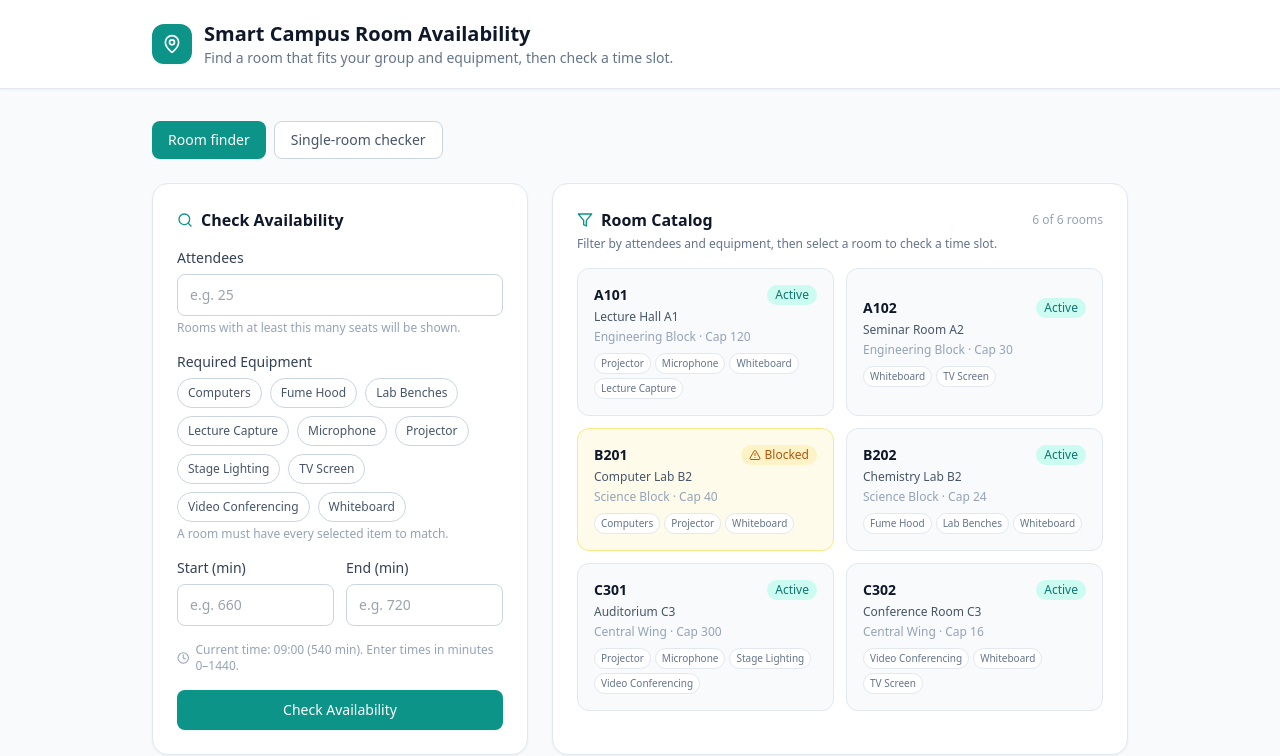
Test: App room catalog and availability UI › D6: A101, 660–720 produces Available (gap between existing bookings)
Step 1. Click the button that starts with "A101" → (706, 342), box [577, 268, 834, 416]
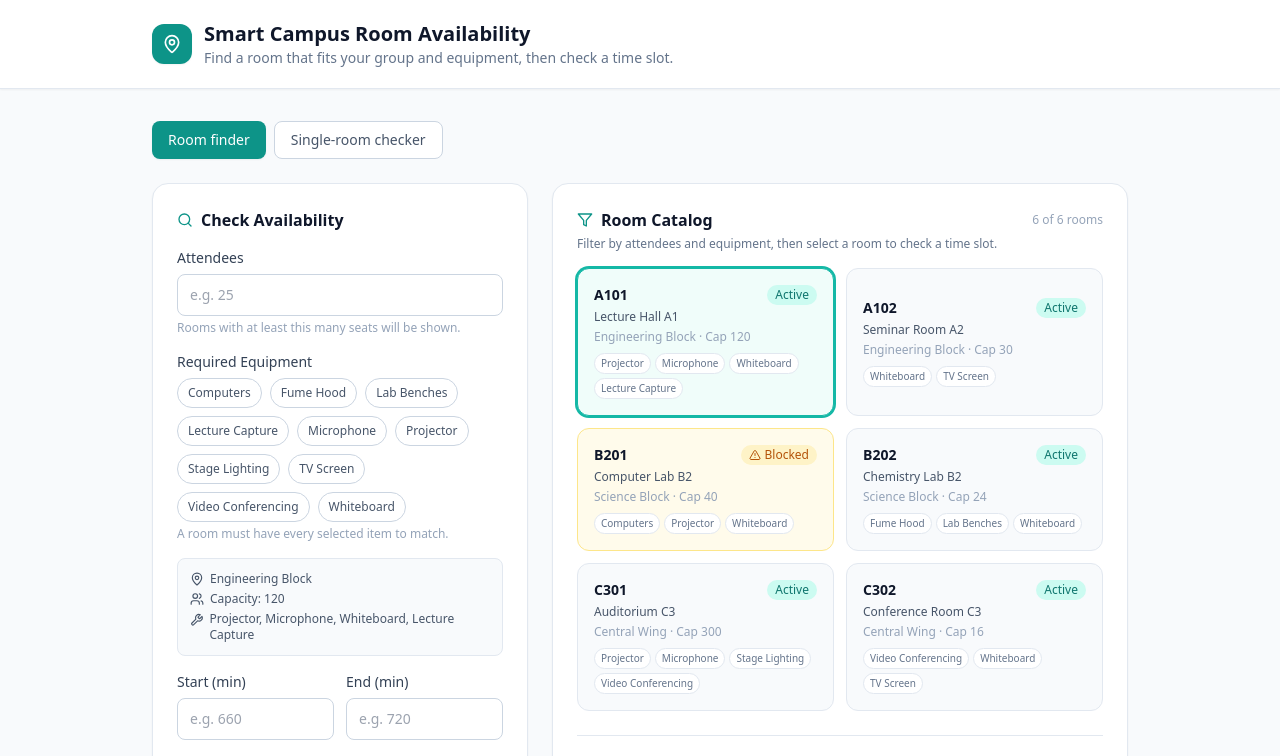
Step 2. Type "660" into the number field labelled "Start (min)" → (256, 719), box [177, 698, 334, 740]
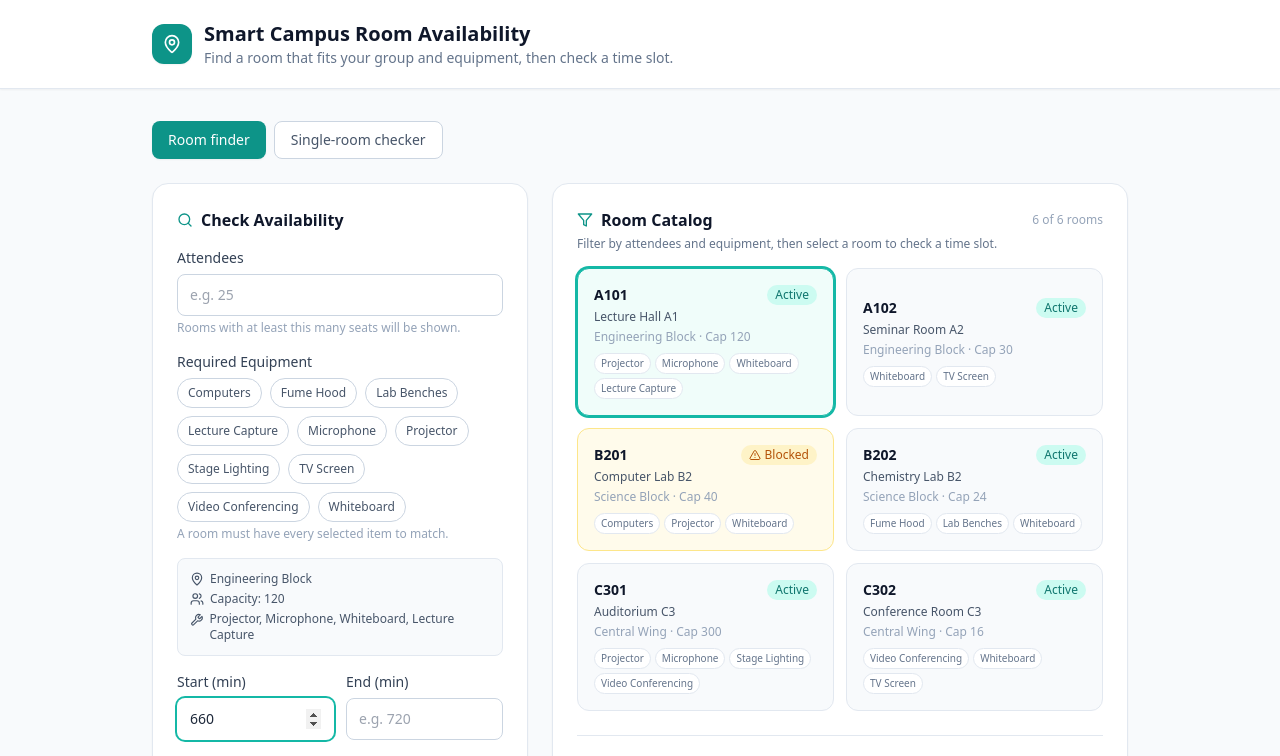
Step 3. Type "720" into the number field labelled "End (min)" → (424, 719), box [346, 698, 503, 740]
(page scrolled)
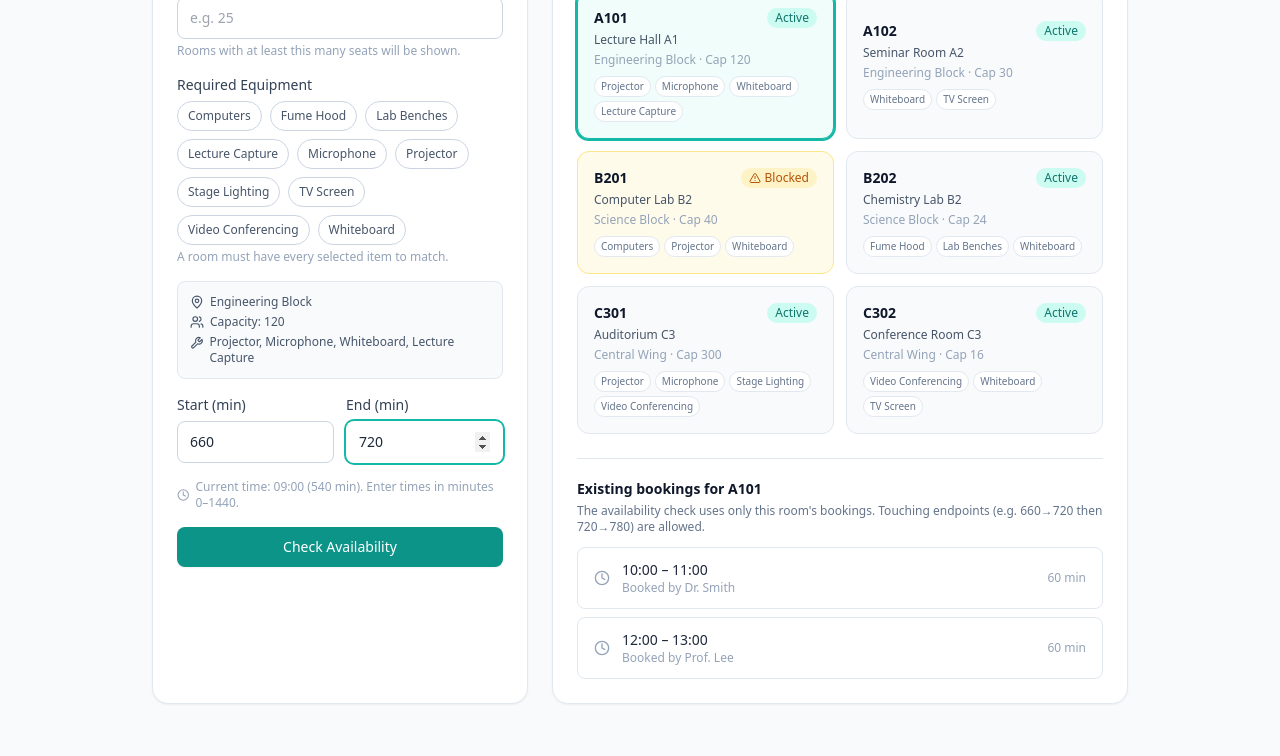
Step 4. Click the button "Check Availability" → (340, 547), box [177, 527, 503, 567]
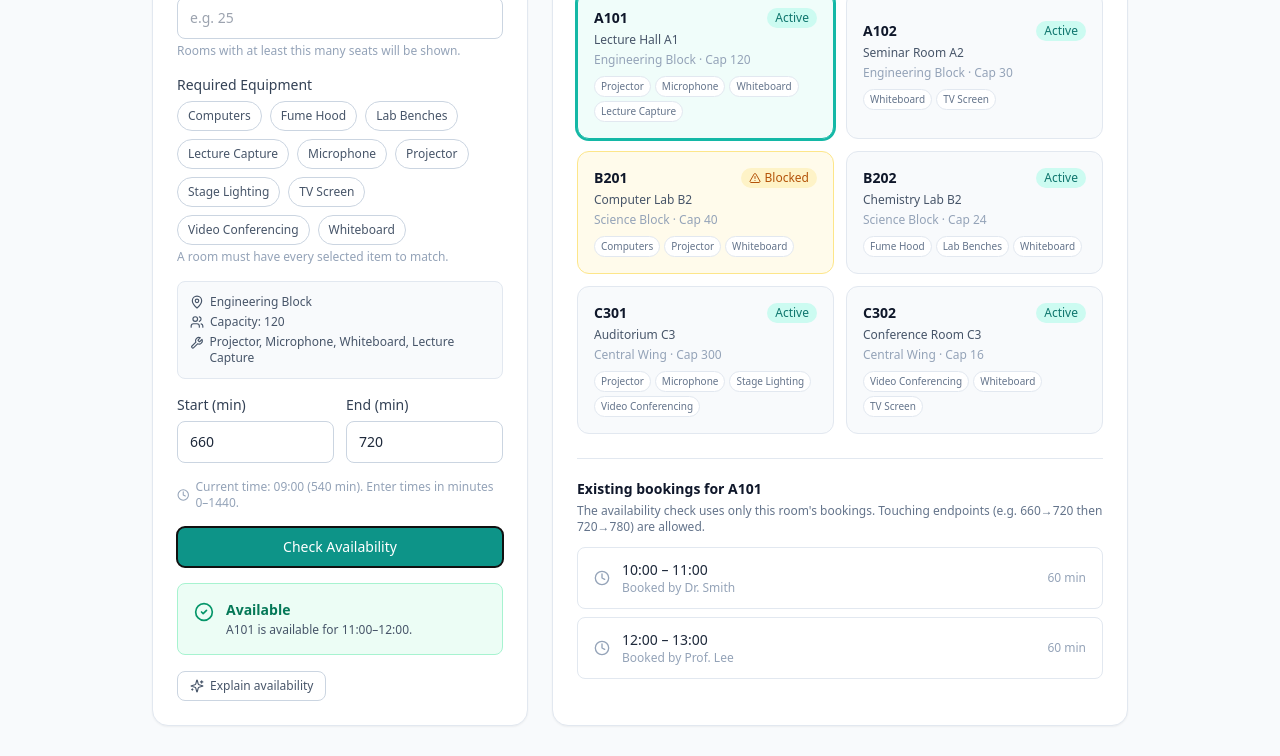
Check: the text "Available" is shown, box [226, 600, 290, 619]
